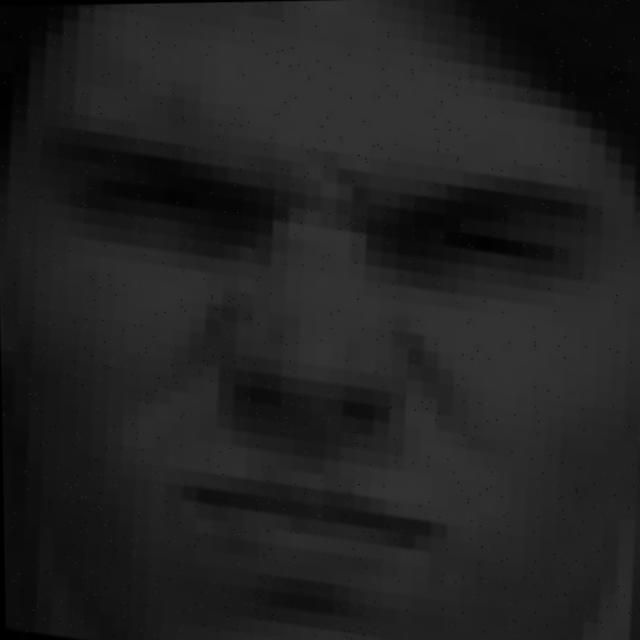Disgust: (22, 109, 589, 590)
